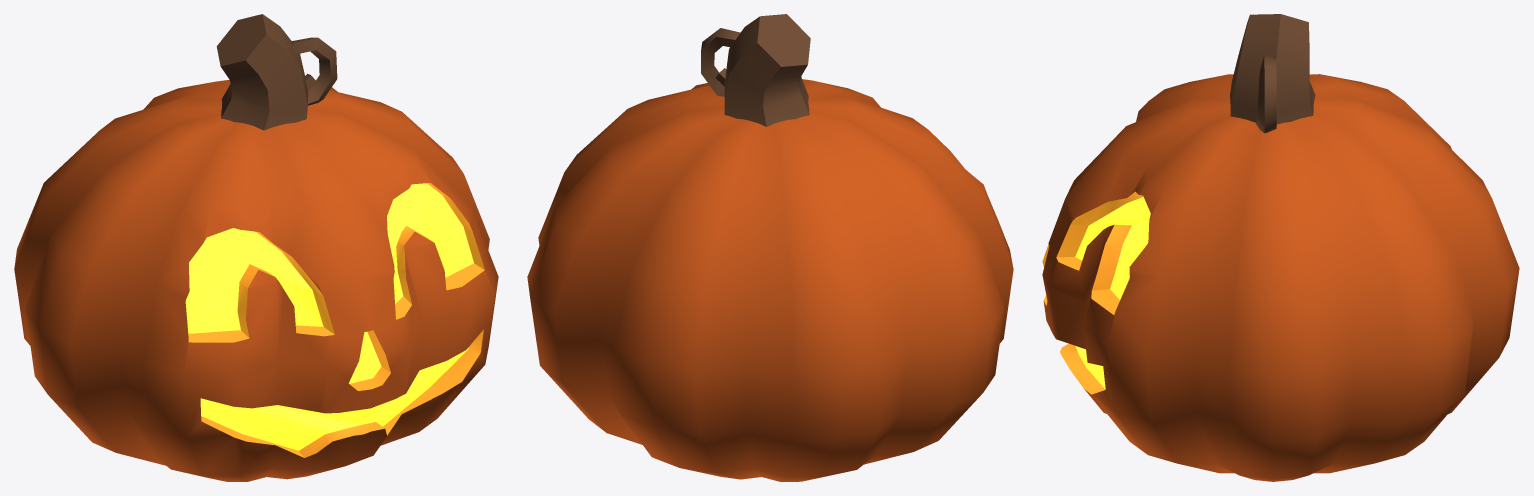
File: pumpkin.glb
The picture shows the model from 3 angles, left to right: view 1: azimuth 30°, elevation 25°; view 2: azimuth 150°, elevation 25°; view 3: azimuth 270°, elevation 25°; orthographic projection.
Parts seen in each view (by area): view 1: PumpkinBody, PumpkinStem, PumpkinTendril; view 2: PumpkinBody, PumpkinStem, PumpkinTendril; view 3: PumpkinBody, PumpkinStem, PumpkinTendril.
Boxes of the visible parts, x1,y1,x2,y2 form: PumpkinBody: (14, 80, 498, 481); PumpkinStem: (216, 14, 307, 130); PumpkinTendril: (291, 37, 337, 105); PumpkinBody: (527, 79, 1013, 481); PumpkinStem: (724, 14, 810, 126); PumpkinTendril: (701, 28, 740, 96); PumpkinBody: (1042, 74, 1519, 481); PumpkinStem: (1230, 14, 1315, 124); PumpkinTendril: (1256, 55, 1276, 133).
Bounding box in the file's own units: 2.16 × 2.05 × 2.01.
